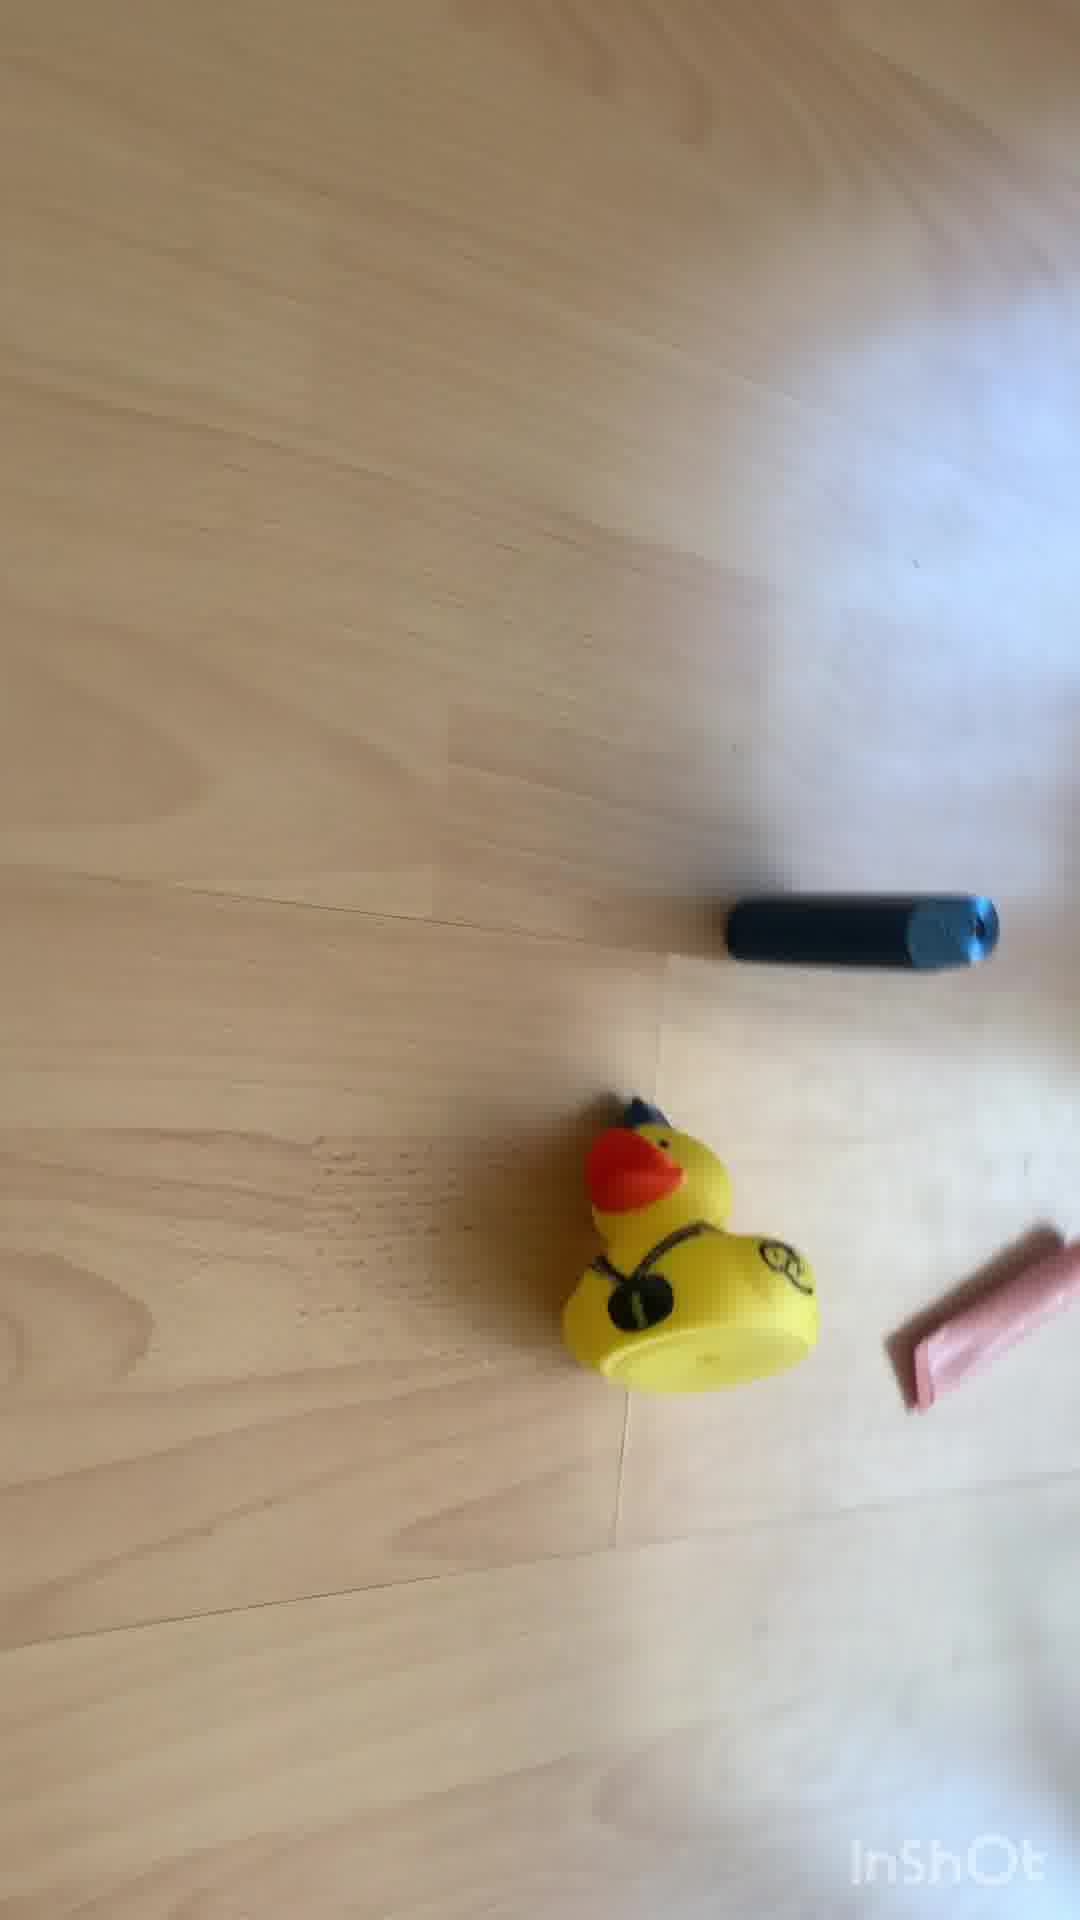duck: (559, 1095, 831, 1408)
glo: (723, 885, 996, 986)
lip balm: (909, 1218, 1080, 1418)
